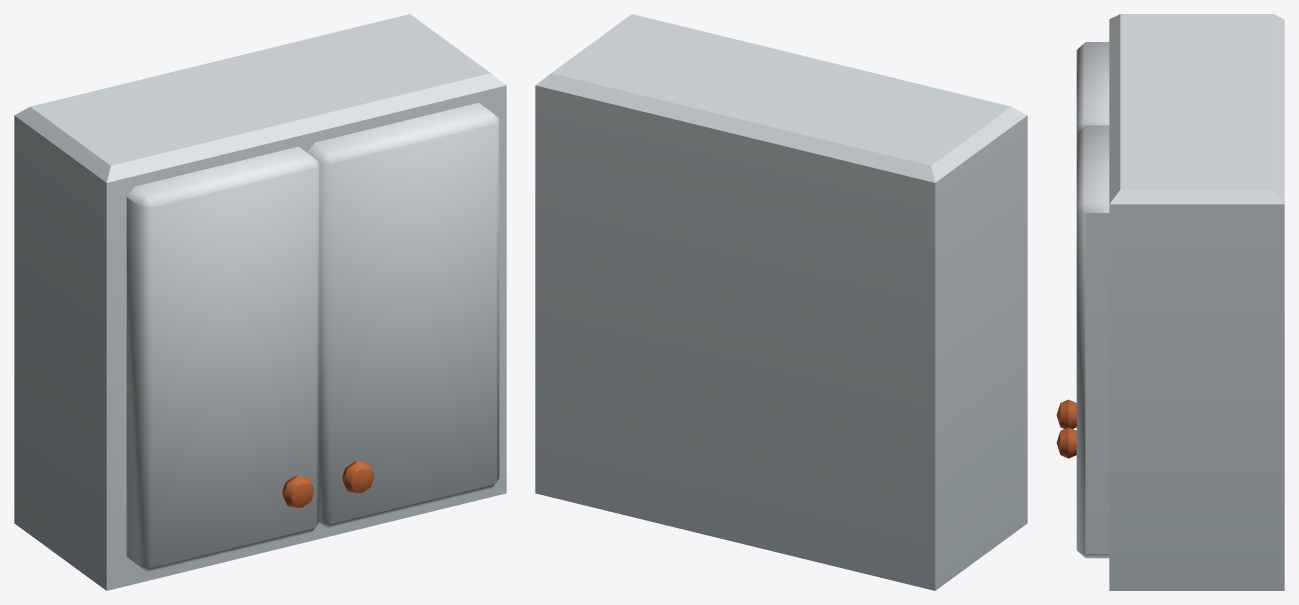
The model's file is kay-kitchencabinet.glb.
3 renders of one model, left to right at view 1: azimuth 30°, elevation 25°; view 2: azimuth 150°, elevation 25°; view 3: azimuth 270°, elevation 25°, orthographic. The views are drawn at different scales.
Visible parts, largest first — view 1: kitchencabinet; view 2: kitchencabinet; view 3: kitchencabinet.
Boxes of the visible parts, x1=… form: kitchencabinet: x1=14, y1=14, x2=506, y2=590; kitchencabinet: x1=535, y1=14, x2=1027, y2=590; kitchencabinet: x1=1056, y1=14, x2=1284, y2=590.
Size of the model in its own units: 1.6 by 1.6 by 0.8335.
1 material, 1 textured.
